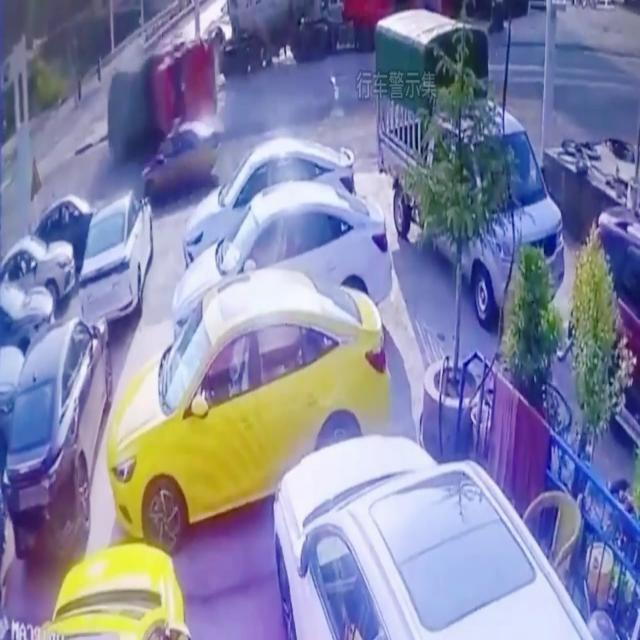accident: (105, 34, 222, 198)
non-accident: (106, 268, 598, 640), (106, 182, 394, 556), (0, 191, 154, 559), (172, 140, 394, 356), (2, 188, 154, 328)
